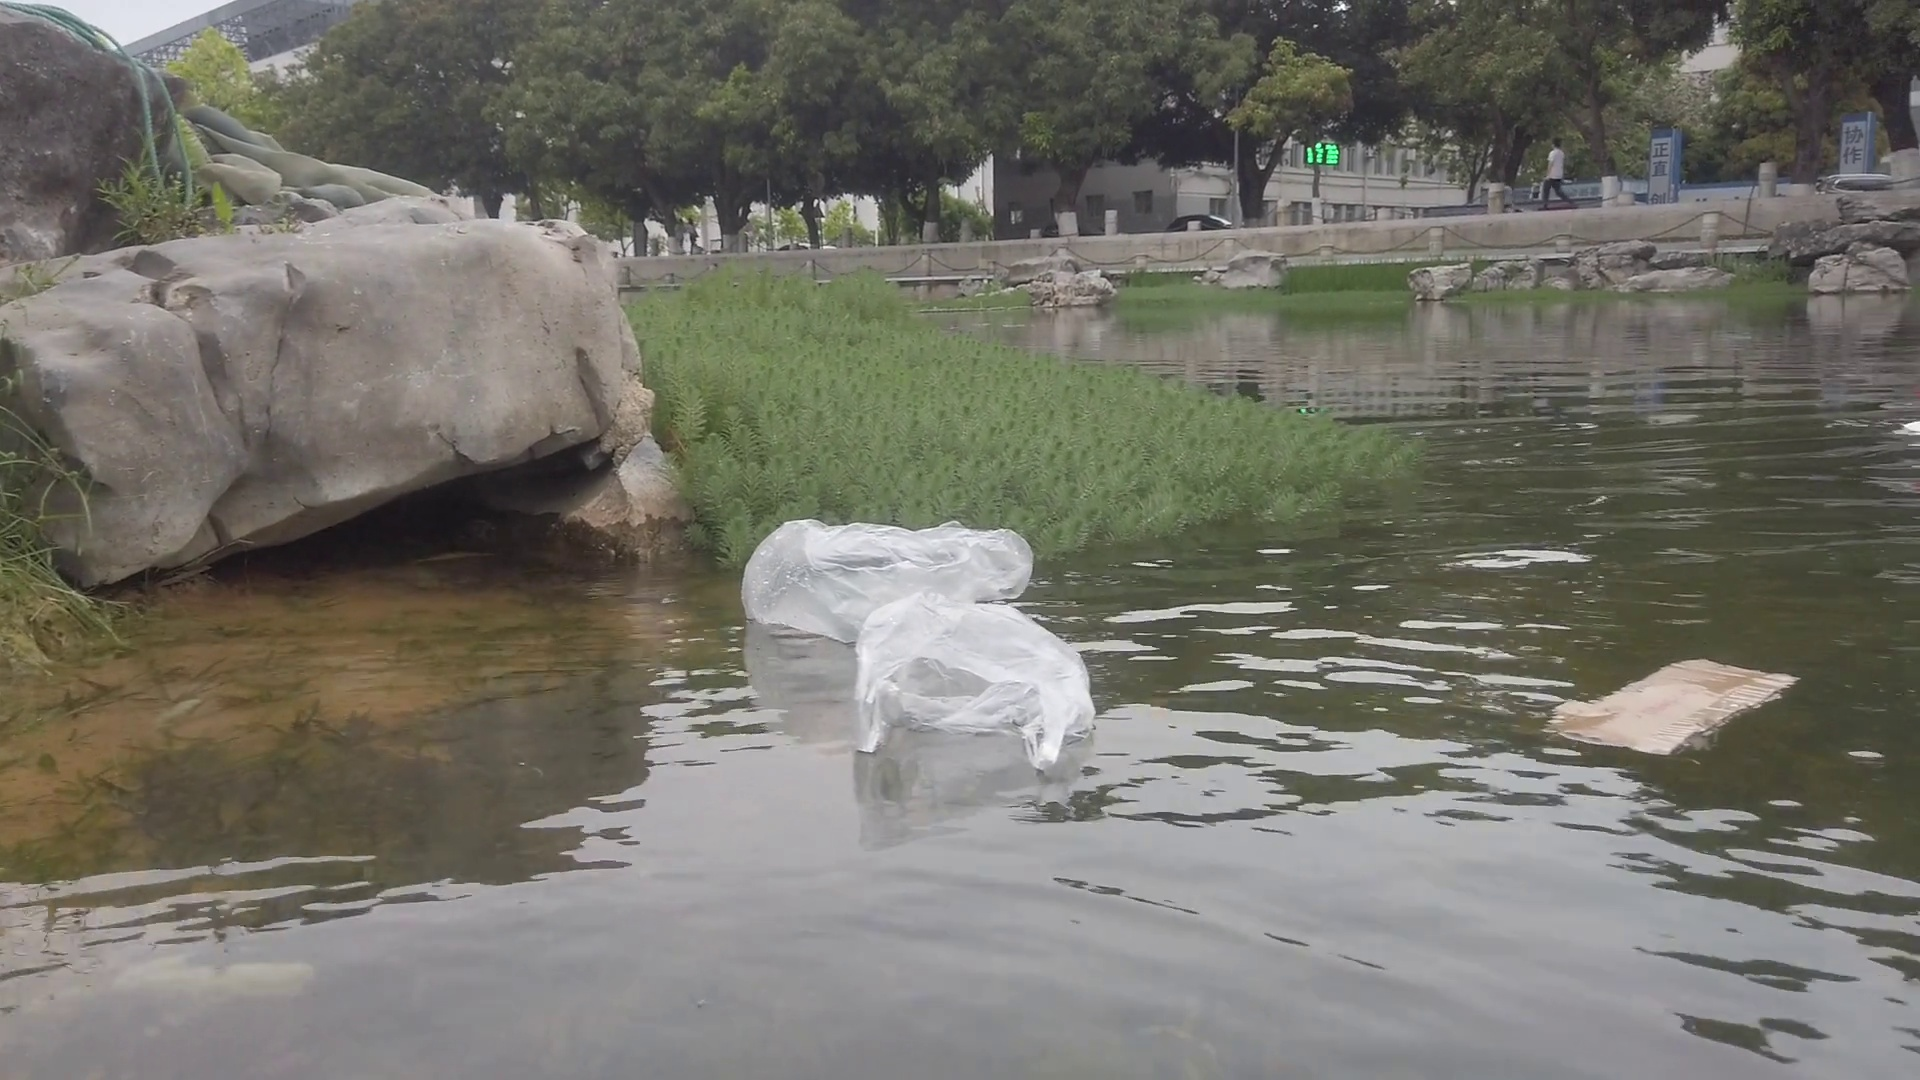paper: (1551, 644, 1800, 771), (1888, 413, 1920, 439)
plastic: (864, 593, 1096, 752), (745, 512, 1033, 629)
